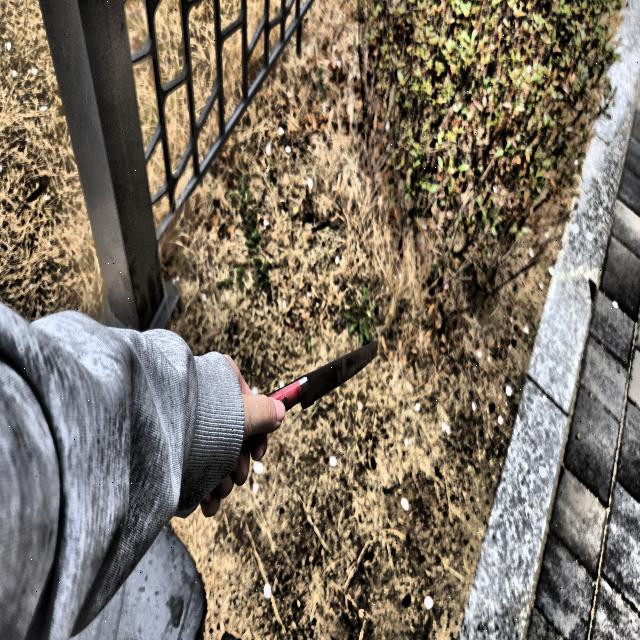knife: (254, 338, 378, 418)
